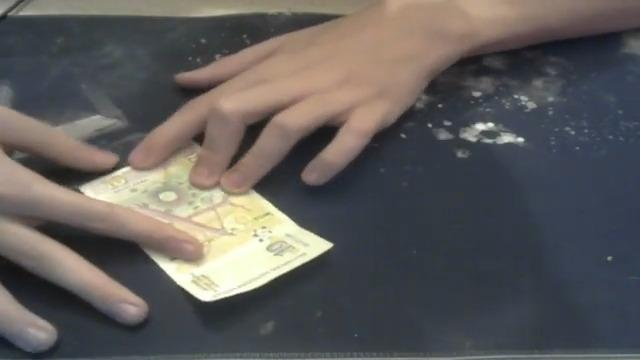10leva: (97, 168, 130, 198)
